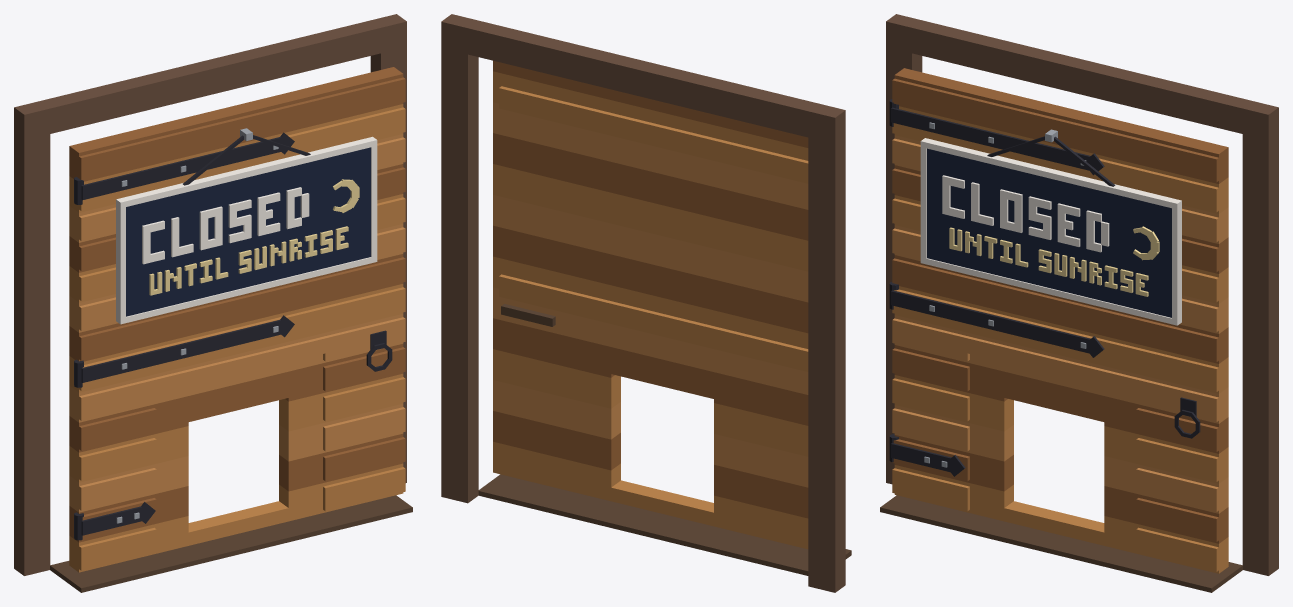
Rendered from CatCafe_Door_LogCabin_Back.glb.
3 renders of one model, left to right at view 1: azimuth 30°, elevation 25°; view 2: azimuth 150°, elevation 25°; view 3: azimuth 330°, elevation 25°, orthographic. The views are drawn at different scales.
Parts seen in each view (by area): view 1: CatCafe_Door_LogCabin_Back_Leaf, CatCafe_Door_LogCabin_Back, CatCafe_Door_LogCabin_Back_Sign, CatCafe_Door_LogCabin_Back_Sign_Bulb; view 2: CatCafe_Door_LogCabin_Back_Leaf, CatCafe_Door_LogCabin_Back; view 3: CatCafe_Door_LogCabin_Back_Leaf, CatCafe_Door_LogCabin_Back, CatCafe_Door_LogCabin_Back_Sign, CatCafe_Door_LogCabin_Back_Sign_Bulb.
Part boxes in pixels (left/top/right/bottom): CatCafe_Door_LogCabin_Back_Leaf: left=69, top=67, right=405, bottom=572; CatCafe_Door_LogCabin_Back: left=14, top=14, right=412, bottom=592; CatCafe_Door_LogCabin_Back_Sign: left=116, top=128, right=377, bottom=324; CatCafe_Door_LogCabin_Back_Sign_Bulb: left=142, top=179, right=359, bottom=295; CatCafe_Door_LogCabin_Back_Leaf: left=493, top=60, right=808, bottom=549; CatCafe_Door_LogCabin_Back: left=441, top=14, right=851, bottom=592; CatCafe_Door_LogCabin_Back_Leaf: left=889, top=68, right=1228, bottom=573; CatCafe_Door_LogCabin_Back: left=880, top=14, right=1278, bottom=592; CatCafe_Door_LogCabin_Back_Sign: left=920, top=129, right=1181, bottom=325; CatCafe_Door_LogCabin_Back_Sign_Bulb: left=942, top=175, right=1159, bottom=296.
Bounding box in the file's own units: 6.9 × 7.95 × 1.3.
1 material, 1 textured.
